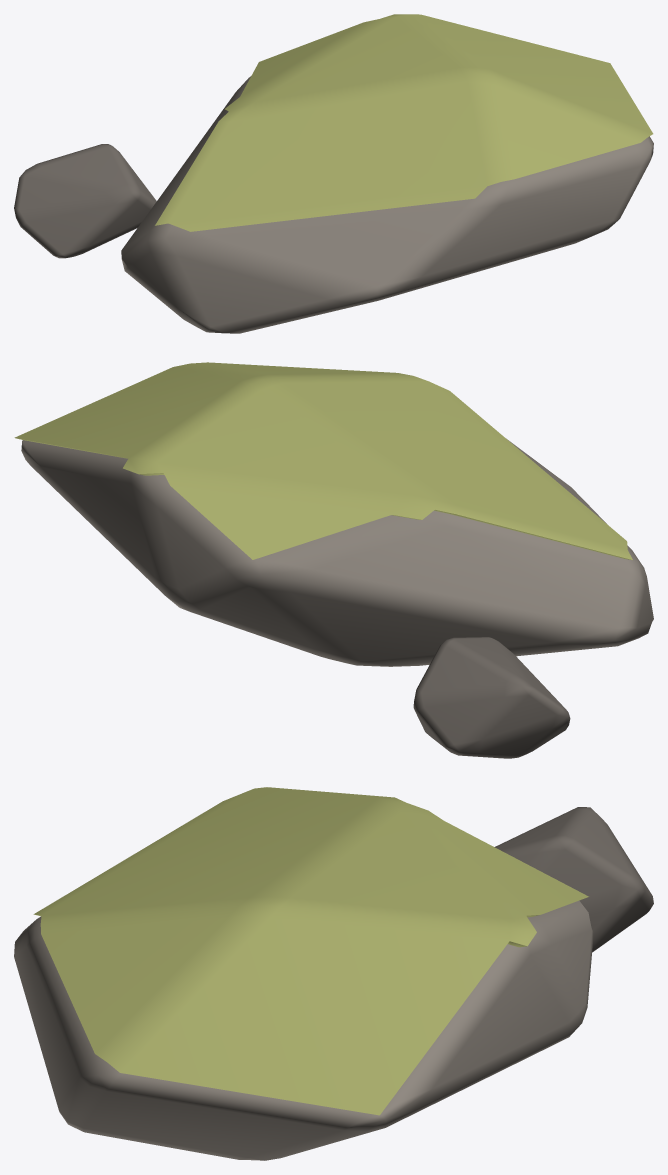
File: rocher_prairie_3.glb
The picture shows the model from 3 angles, top to bottom: view 1: azimuth 30°, elevation 25°; view 2: azimuth 150°, elevation 25°; view 3: azimuth 270°, elevation 25°; orthographic projection. The views are drawn at different scales.
Visible parts, largest first — view 1: lichen_lichen.002, roche_pierre_claire.006, roche_pierre.012; view 2: lichen_lichen.002, roche_pierre_claire.006, roche_pierre.012; view 3: lichen_lichen.002, roche_pierre_claire.006, roche_pierre.012.
Boxes of the visible parts, bbox=[...] form: lichen_lichen.002: bbox=[155, 14, 653, 231]; roche_pierre_claire.006: bbox=[121, 76, 653, 333]; roche_pierre.012: bbox=[14, 144, 156, 258]; lichen_lichen.002: bbox=[14, 362, 632, 560]; roche_pierre_claire.006: bbox=[21, 438, 653, 666]; roche_pierre.012: bbox=[413, 637, 570, 758]; lichen_lichen.002: bbox=[33, 787, 588, 1115]; roche_pierre_claire.006: bbox=[14, 900, 593, 1160]; roche_pierre.012: bbox=[494, 807, 653, 952].
Size of the model in its own units: 0.9187 by 0.2769 by 0.6603.
